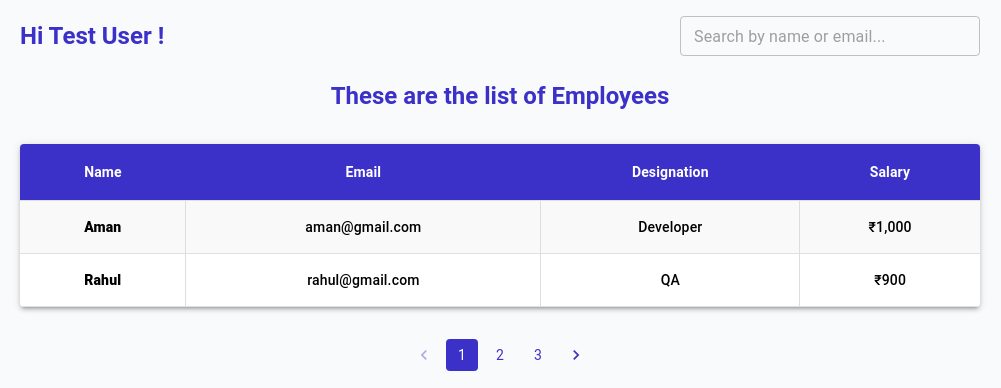
it: Dashboard Component › search input updates searchTerm and clears correctly
Type "Alice" into the field with placeholder "Search by name or email..." at point(830, 36), box [680,16,980,56]
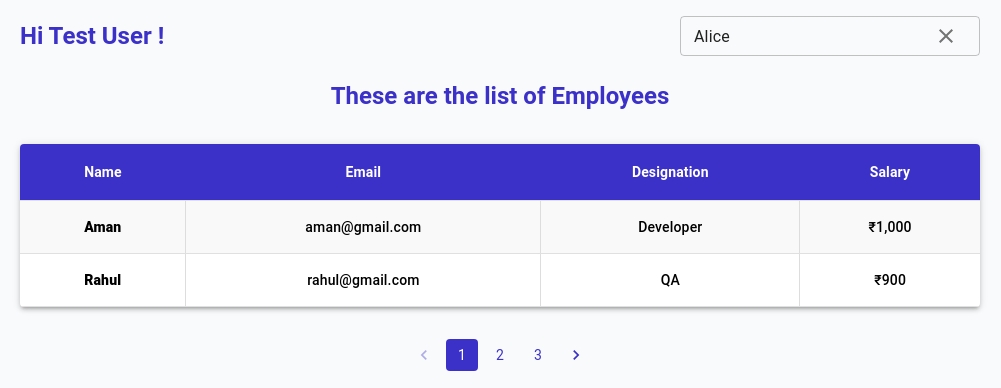
Check: the button with test id "clear-search-button" is shown
Click the button with test id "clear-search-button" at point(946, 36), box [926,16,966,56]
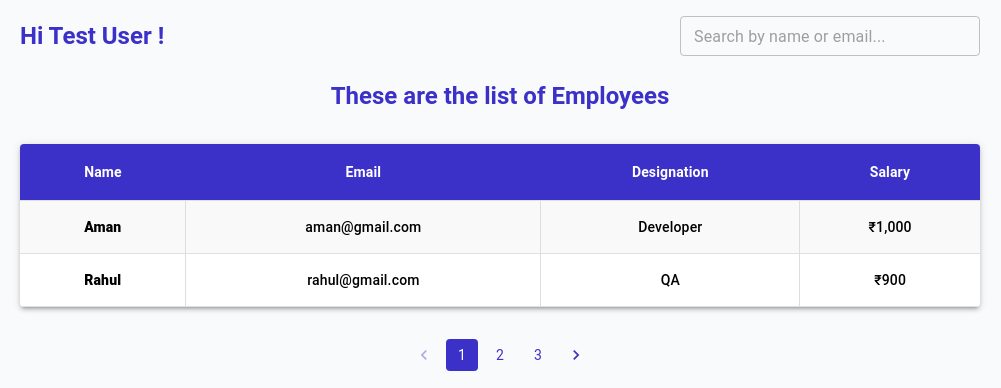
Check: the field with placeholder "Search by name or email..." is empty, box [680,16,980,56]
